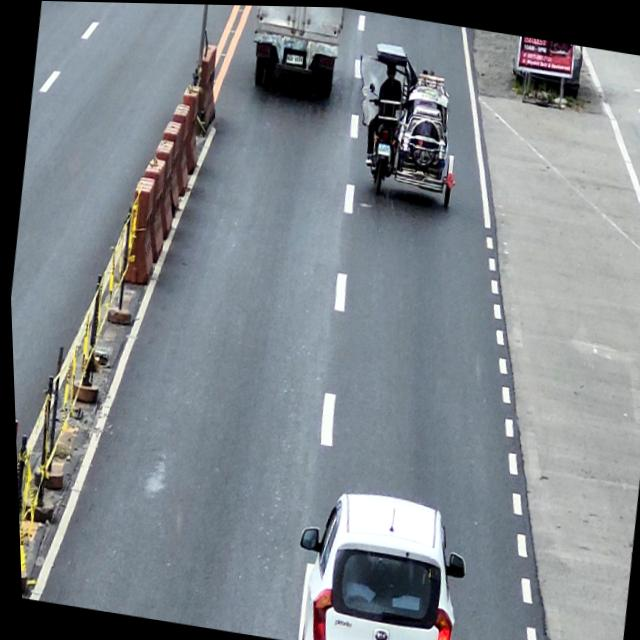Car: (281, 480, 472, 640)
License-Plate: (285, 51, 304, 65), (375, 141, 390, 155)
Tricycle: (353, 41, 471, 209)
Truck: (245, 4, 346, 100)
